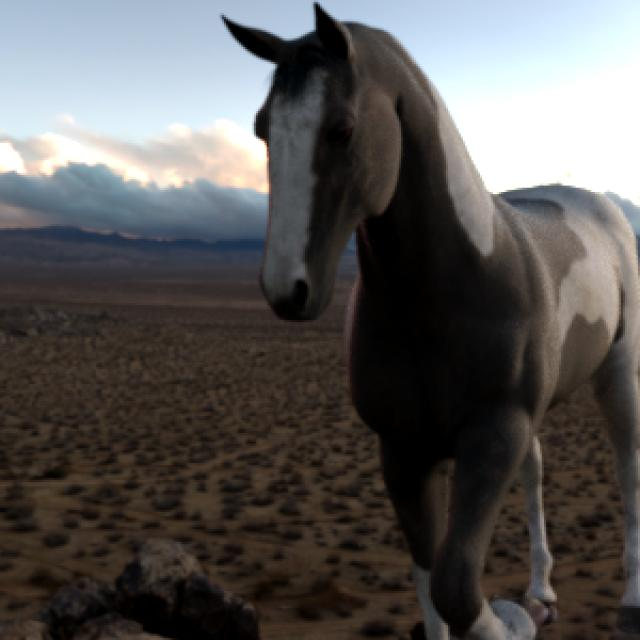horse: (224, 5, 640, 640)
